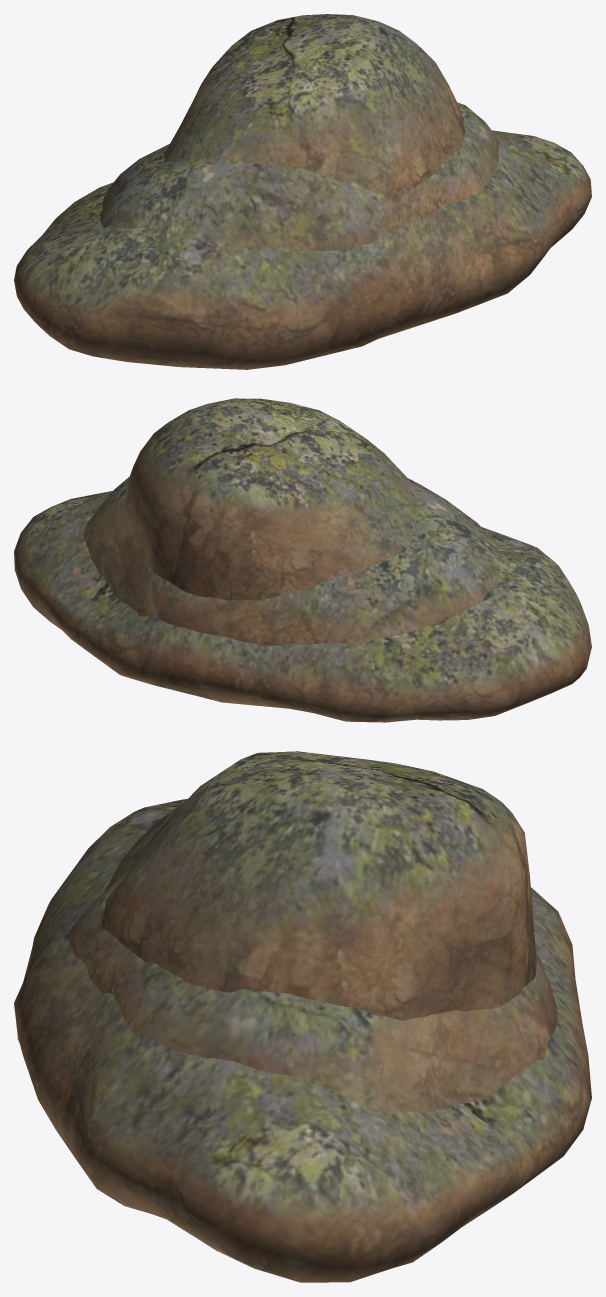
File: rocks.glb
3 renders of one model, top to bottom at view 1: azimuth 30°, elevation 25°; view 2: azimuth 150°, elevation 25°; view 3: azimuth 270°, elevation 25°, orthographic. The views are drawn at different scales.
Visible parts, largest first — view 1: rock_c, rock_b, rock_a; view 2: rock_c, rock_b, rock_a; view 3: rock_c, rock_b, rock_a.
Part boxes in pixels (box(x1,y1,x2,y2)): rock_c: box(14, 130, 591, 369); rock_b: box(164, 14, 465, 199); rock_a: box(100, 102, 499, 250); rock_c: box(14, 491, 591, 722); rock_b: box(125, 398, 416, 600); rock_a: box(84, 477, 500, 645); rock_c: box(14, 799, 591, 1282); rock_b: box(101, 751, 536, 1020); rock_a: box(64, 803, 557, 1113).
Bounding box in the file's own units: 1.81 × 0.7386 × 1.08.
3 materials, 3 textured.
